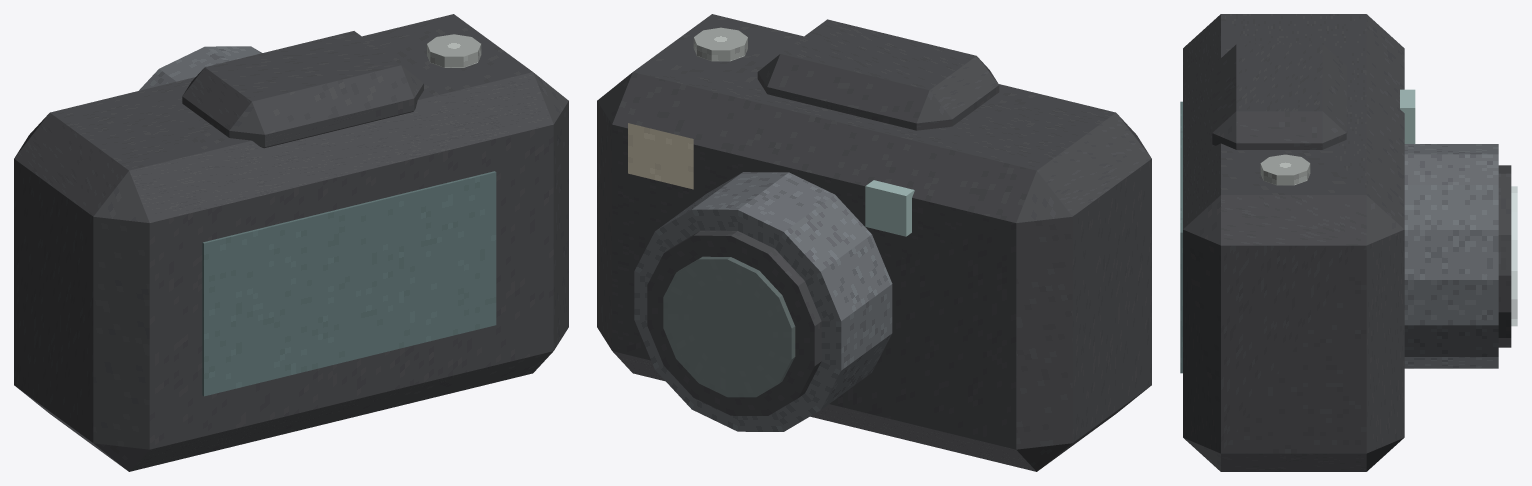
The model's file is camera.glb.
The picture shows the model from 3 angles, left to right: view 1: azimuth 30°, elevation 25°; view 2: azimuth 150°, elevation 25°; view 3: azimuth 270°, elevation 25°; orthographic projection. The views are drawn at different scales.
Parts seen in each view (by area): view 1: block_camera body, block_rear screen, block_shutter housing, block_lens barrel, block_shutter button; view 2: block_camera body, block_lens barrel, block_lens recess, block_shutter housing, block_camera lens, block_flash window, block_optical viewfinder, block_shutter button; view 3: block_camera body, block_lens barrel, block_shutter housing, block_lens recess, block_shutter button, block_camera lens, block_rear screen, block_optical viewfinder.
Boxes of the visible parts, x1=… form: block_camera body: x1=14, y1=14, x2=568, y2=471; block_rear screen: x1=202, y1=171, x2=496, y2=396; block_shutter housing: x1=182, y1=31, x2=423, y2=148; block_lens barrel: x1=139, y1=46, x2=261, y2=90; block_shutter button: x1=427, y1=34, x2=481, y2=67; block_camera body: x1=597, y1=14, x2=1151, y2=471; block_lens barrel: x1=634, y1=172, x2=892, y2=431; block_lens recess: x1=647, y1=230, x2=821, y2=415; block_shutter housing: x1=757, y1=19, x2=999, y2=130; block_camera lens: x1=663, y1=256, x2=795, y2=397; block_flash window: x1=628, y1=123, x2=693, y2=189; block_optical viewfinder: x1=865, y1=180, x2=914, y2=236; block_shutter button: x1=693, y1=27, x2=747, y2=61; block_camera body: x1=1183, y1=14, x2=1404, y2=471; block_lens barrel: x1=1404, y1=144, x2=1498, y2=368; block_shutter housing: x1=1212, y1=44, x2=1346, y2=149; block_lens recess: x1=1498, y1=165, x2=1511, y2=347; block_shutter button: x1=1260, y1=154, x2=1310, y2=185; block_camera lens: x1=1511, y1=186, x2=1517, y2=326; block_rear screen: x1=1180, y1=101, x2=1182, y2=373; block_optical viewfinder: x1=1400, y1=89, x2=1415, y2=143.
Size of the model in its own units: 0.1197 by 0.0799 by 0.0801.
Materials: 2 (2 with a texture image).
